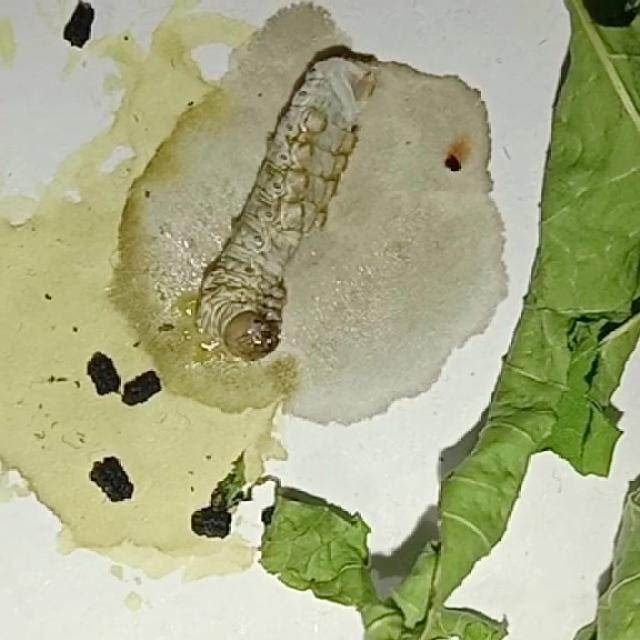Grasserie: (190, 45, 387, 378)
